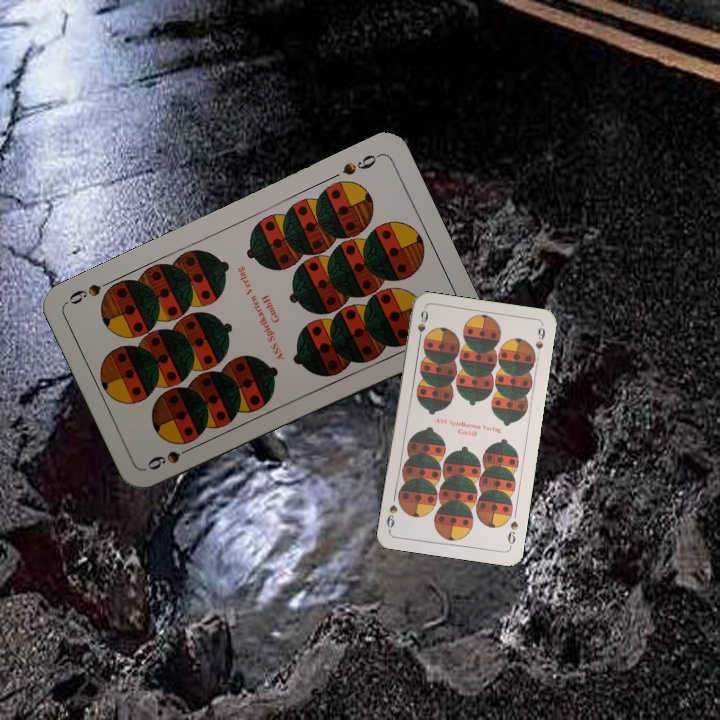S9: (143, 440, 200, 473), (338, 150, 383, 178), (413, 306, 431, 346), (503, 516, 521, 550)
